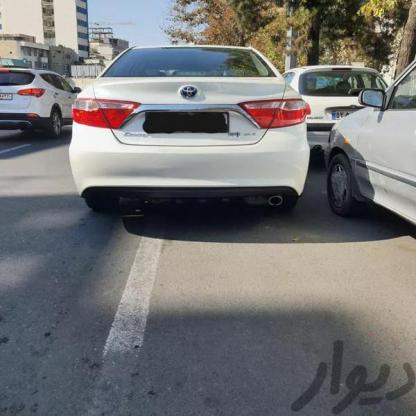Car: (60, 40, 315, 189), (326, 57, 416, 292), (285, 47, 376, 161), (0, 46, 86, 144)
